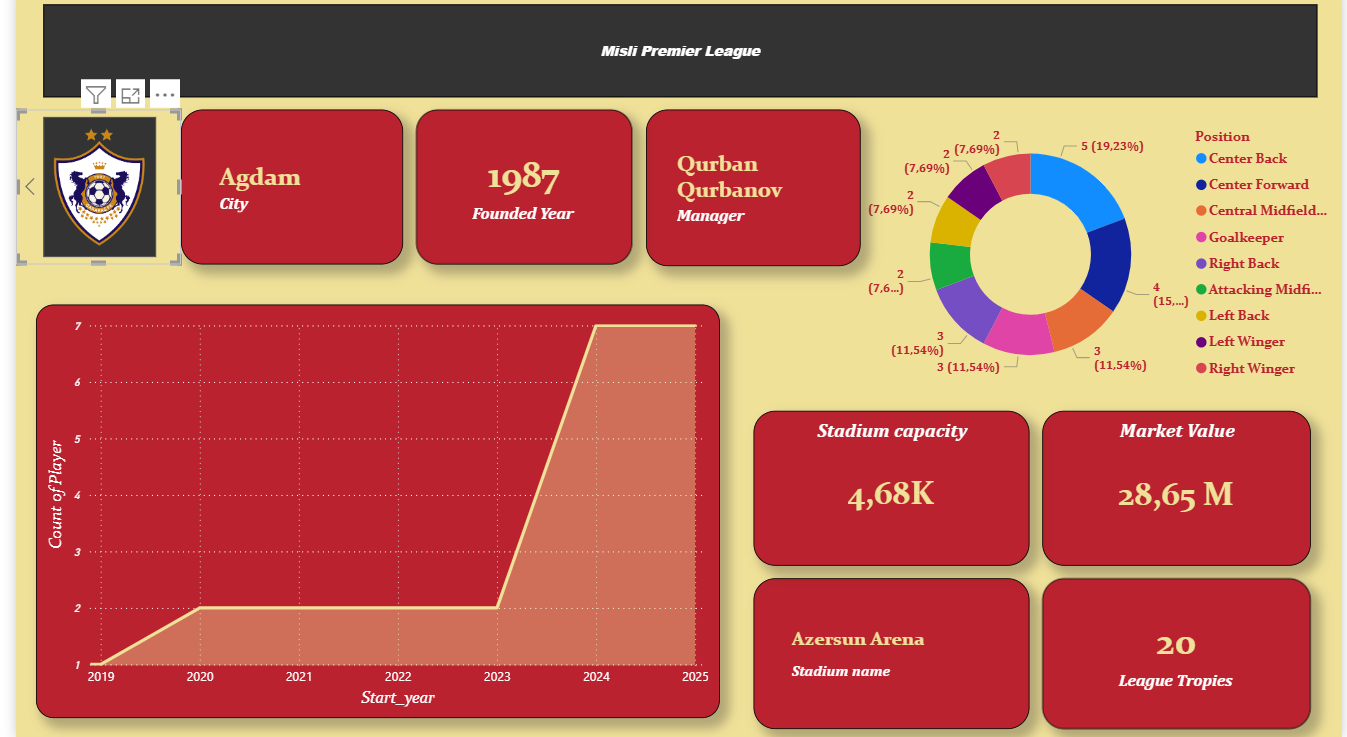

The page's visual inventory and layout, read from the dashboard file:
{"tool":"powerbi","page":{"name":"Team","canvas":[1280,720],"ordinal":2},"visuals":[{"type":"slicer","fields":{"Values":["Clubs.League"]},"box":[0,0,1280,113.4],"z":0},{"type":"slicer","fields":{"Values":["Clubs.Logo_URL"]},"box":[0,113.4,159.3,149.6],"z":1000},{"type":"cardVisual","title":"City","fields":{"Data":["Min(Clubs.City)"]},"box":[159.3,113.4,214.7,149.6],"z":2000},{"type":"cardVisual","title":"Market Value","fields":{"Data":["Avg(Clubs.Market_value_total(million))"]},"box":[990.5,404.2,259.4,149.6],"z":3000},{"type":"donutChart","fields":{"Category":["Players.Position"],"Y":["CountNonNull(Players.Position)"]},"box":[815.6,102.5,464.5,301.6],"z":4000},{"type":"areaChart","fields":{"Category":["Players.Start_year"],"Y":["CountNonNull(Players.Player)"]},"box":[19.3,301.6,659.9,399.3],"z":5000},{"type":"cardVisual","fields":{"Data":["Min(Clubs.Coach_name)"]},"box":[608,113.4,207.5,150.8],"z":6000},{"type":"cardVisual","fields":{"Data":["Min(Clubs.Stadium_name)"]},"box":[711.8,565.8,266.6,146],"z":7000},{"type":"cardVisual","title":"Stadium capacity","fields":{"Data":["Avg(Clubs.Stadium_capacity)"]},"box":[711.8,404.2,266.6,149.6],"z":8000},{"type":"advanceCardE03760C5AB684758B56AA29F9E6C257B","fields":{"mainMeasure":["Max(Clubs.Founded_year)"]},"box":[386.1,113.4,208.7,149.6],"z":9000},{"type":"advanceCardE03760C5AB684758B56AA29F9E6C257B","fields":{"mainMeasure":["Sum(Clubs.League_tropies)"]},"box":[990.5,565.8,259.4,146],"z":10000}]}

Visuals, with their boxes on the page's 1280x720 design canvas (x1, y1, x2, y2). These are canvas units, not pixel positions in the 1347x737 screenshot, which may show the page scaled, cropped or inside an application window:
slicer - Clubs.League: pyautogui.locateOnScreen(0, 0, 1280, 113)
slicer - Clubs.Logo_URL: pyautogui.locateOnScreen(0, 113, 159, 263)
"City" cardVisual: pyautogui.locateOnScreen(159, 113, 374, 263)
"Market Value" cardVisual: pyautogui.locateOnScreen(990, 404, 1250, 554)
donutChart - Players.Position x CountNonNull(Players.Position): pyautogui.locateOnScreen(816, 102, 1280, 404)
areaChart - Players.Start_year x CountNonNull(Players.Player): pyautogui.locateOnScreen(19, 302, 679, 701)
cardVisual - Min(Clubs.Coach_name): pyautogui.locateOnScreen(608, 113, 816, 264)
cardVisual - Min(Clubs.Stadium_name): pyautogui.locateOnScreen(712, 566, 978, 712)
"Stadium capacity" cardVisual: pyautogui.locateOnScreen(712, 404, 978, 554)
advanceCardE03760C5AB684758B56AA29F9E6C257B - Max(Clubs.Founded_year): pyautogui.locateOnScreen(386, 113, 595, 263)
advanceCardE03760C5AB684758B56AA29F9E6C257B - Sum(Clubs.League_tropies): pyautogui.locateOnScreen(990, 566, 1250, 712)
